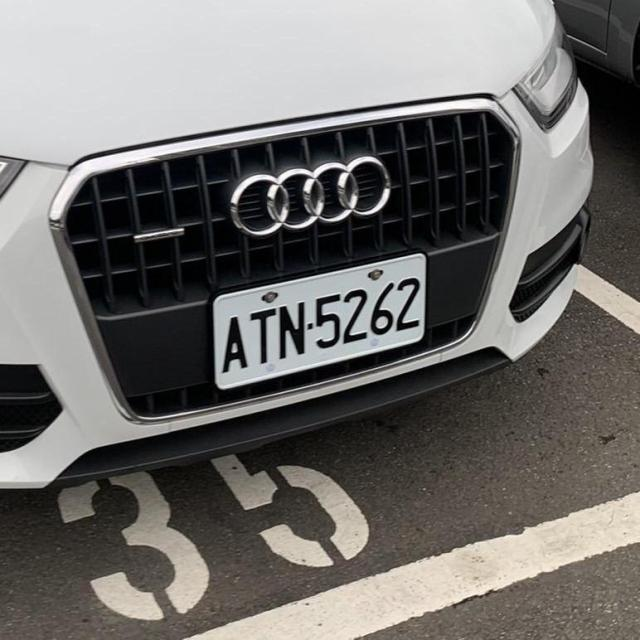W: (200, 246, 445, 392)
